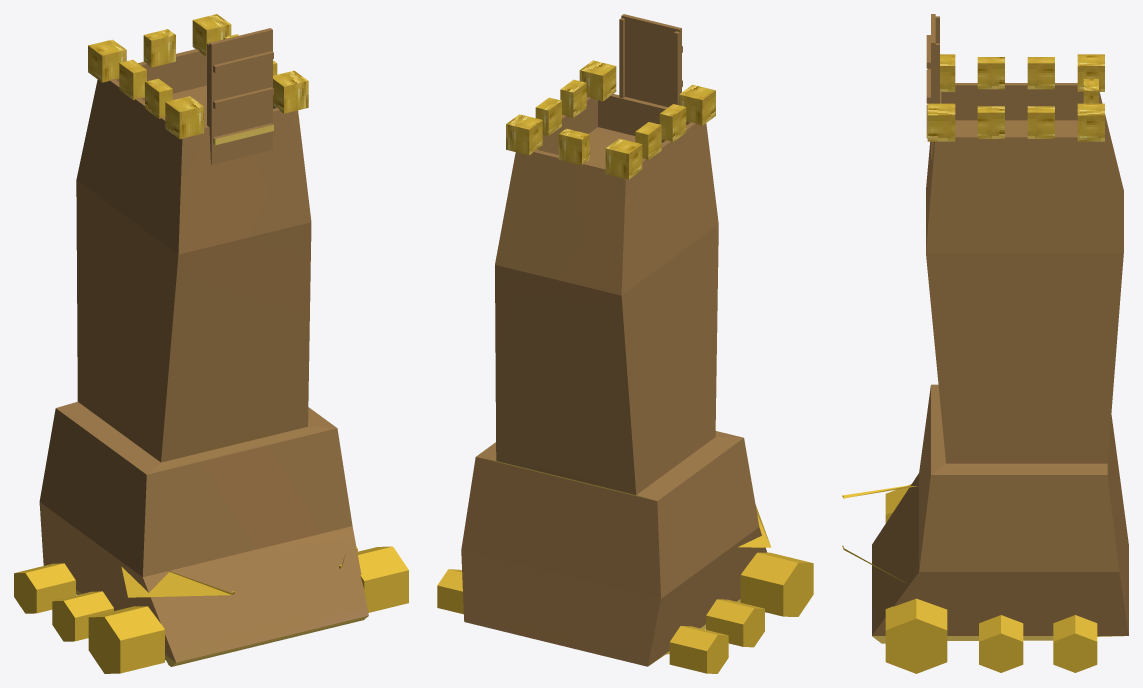
Rendered from ae_siege_tower_open_large_royal_lod2.glb.
The picture shows the model from 3 angles, left to right: view 1: azimuth 30°, elevation 25°; view 2: azimuth 150°, elevation 25°; view 3: azimuth 270°, elevation 25°; orthographic projection. The views are drawn at different scales.
Visible parts, largest first — view 1: siege_tower_open_large, drawbridge; view 2: siege_tower_open_large, drawbridge; view 3: siege_tower_open_large, drawbridge.
Boxes of the visible parts, x1=… form: siege_tower_open_large: x1=14, y1=14, x2=408, y2=673; drawbridge: x1=207, y1=28, x2=273, y2=164; siege_tower_open_large: x1=437, y1=60, x2=813, y2=673; drawbridge: x1=619, y1=14, x2=682, y2=107; siege_tower_open_large: x1=842, y1=54, x2=1128, y2=673; drawbridge: x1=926, y1=14, x2=939, y2=159.
Bounding box in the file's own units: 67.27 × 133 × 59.71.
4 materials, 3 textured.
